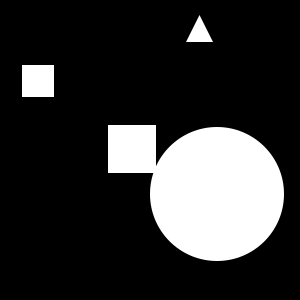circle: (108, 125, 156, 173), (22, 65, 54, 97)
rectangle: (150, 127, 284, 261)
triangle: (186, 15, 213, 42)
